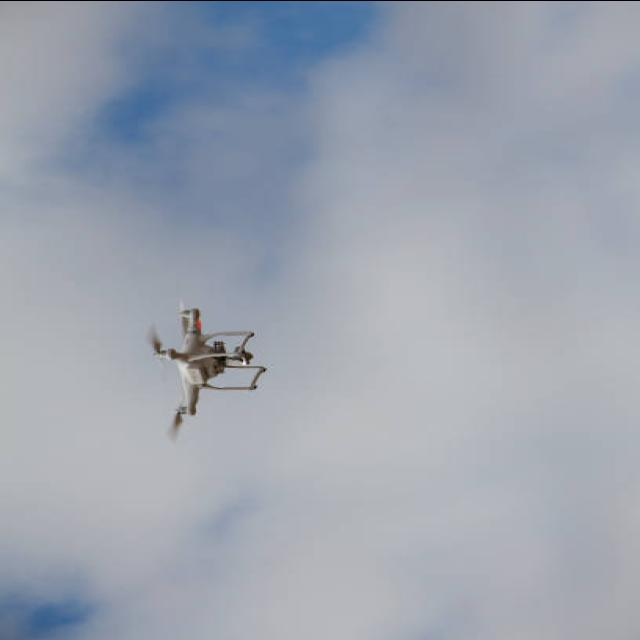drone: (144, 298, 266, 442)
